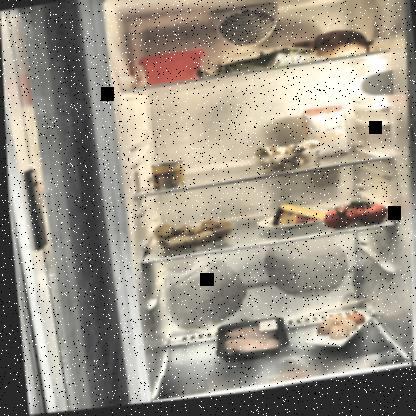butter: (135, 50, 208, 92)
cheese: (268, 202, 334, 235)
chicken: (217, 323, 277, 365)
corn: (149, 163, 184, 194)
eggs: (311, 316, 365, 351)
green_beans: (199, 47, 318, 84)
mushrooms: (251, 141, 321, 180)
potato: (150, 216, 234, 257)
sweet_potato: (282, 30, 377, 73)
tomato: (321, 203, 386, 239)
